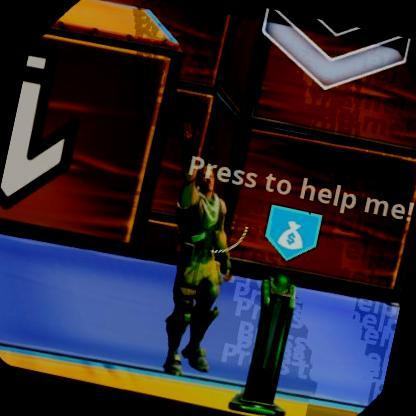person: (144, 160, 252, 369)
